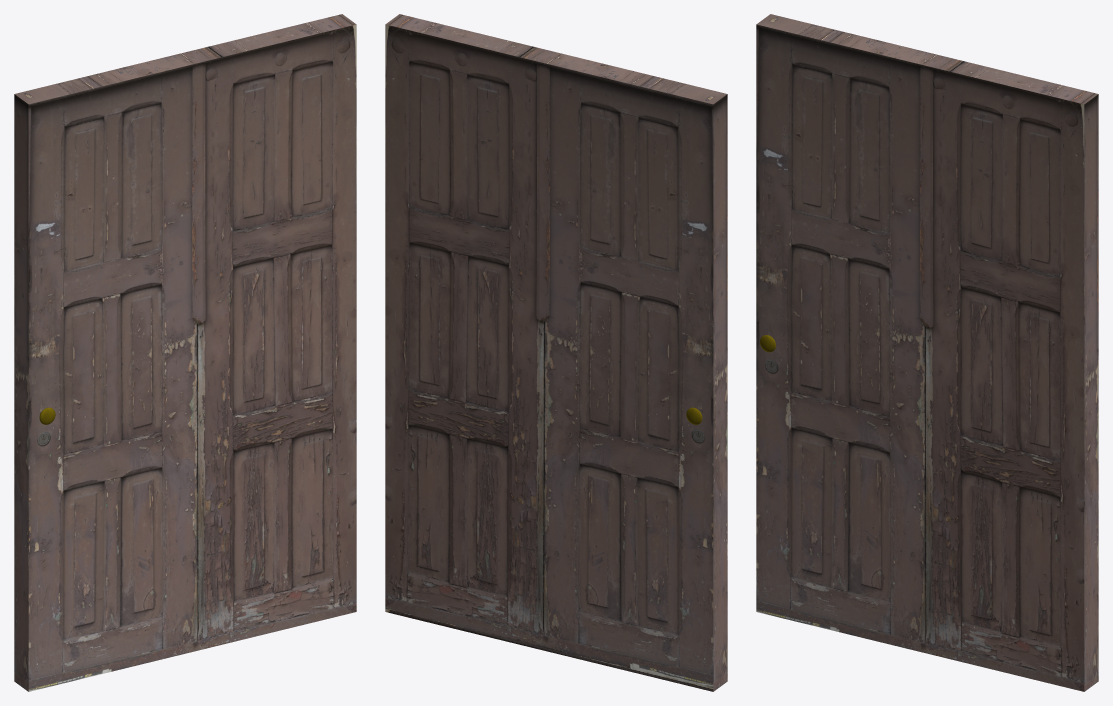
The model's file is Door_Wood.fbx.
3 renders of one model, left to right at view 1: azimuth 30°, elevation 25°; view 2: azimuth 150°, elevation 25°; view 3: azimuth 330°, elevation 25°, orthographic.
Visible parts, largest first — view 1: pCube4; view 2: pCube4; view 3: pCube4.
Boxes of the visible parts, x1,y1,x2,y2 form: pCube4: [14, 14, 356, 691]; pCube4: [385, 14, 727, 691]; pCube4: [756, 14, 1098, 691].
Bounding box in the file's own units: 1 × 1.71 × 0.1301.
